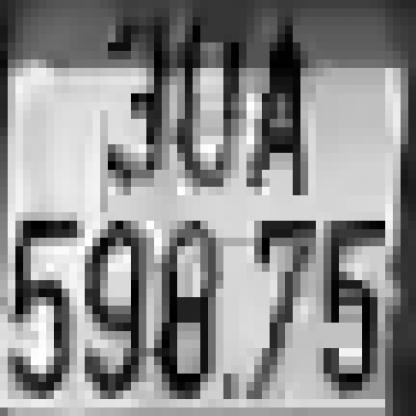3: (100, 17, 170, 187)
5: (8, 212, 77, 382), (316, 212, 377, 391)
7: (239, 212, 308, 382)
8: (154, 212, 216, 391)
9: (85, 212, 146, 391)
A: (239, 17, 308, 195)
